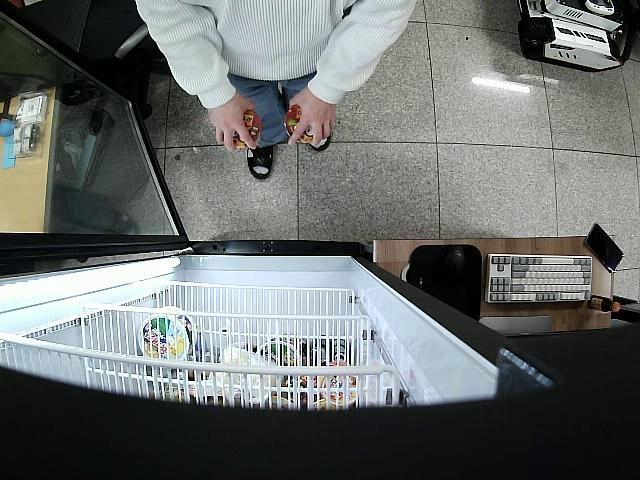06_nuguri_S: (284, 107, 326, 144), (233, 110, 262, 149)
